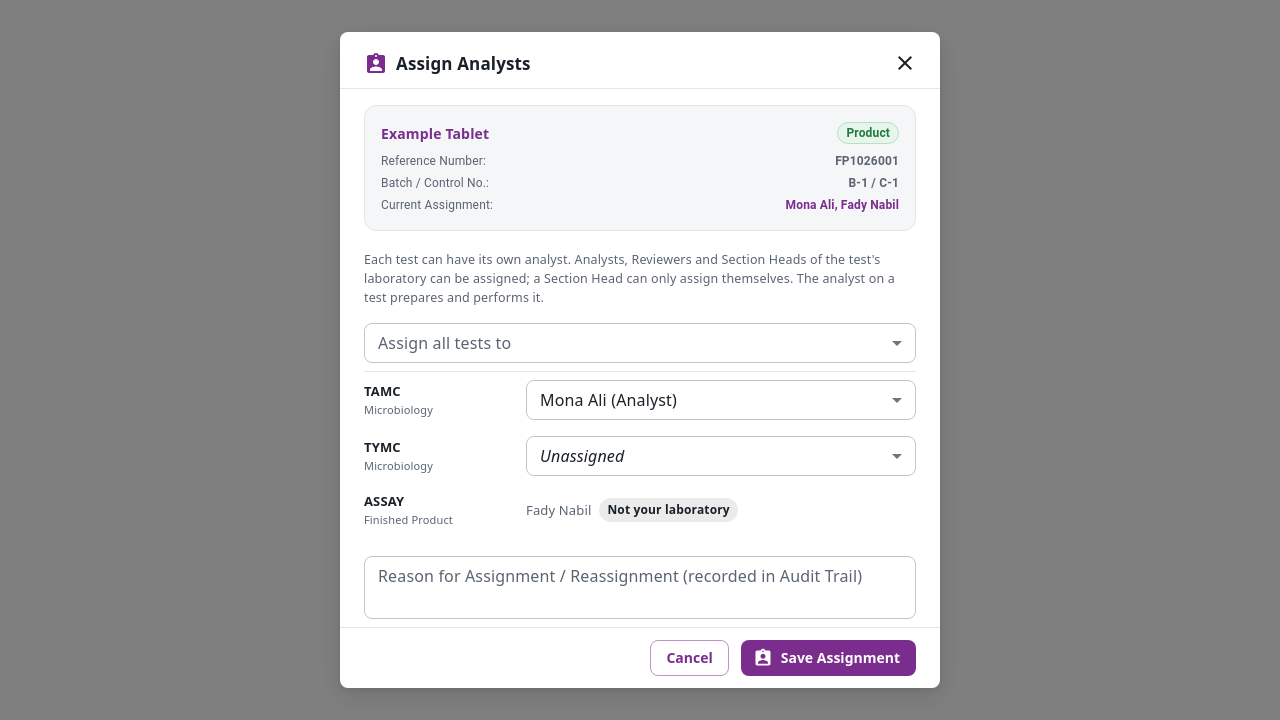
AssignAnalystDialog › offers each test only the people who may take it and locks tests outside the user's laboratory
Expected: the dropdown named "Analyst for TAMC" is shown, [540, 389, 677, 411]
Expected: the text "Mona Ali, Fady Nabil" is shown, [786, 196, 899, 214]
Press the mouse on the dropdown named "Analyst for TYMC": (582, 456) [540, 445, 624, 467]
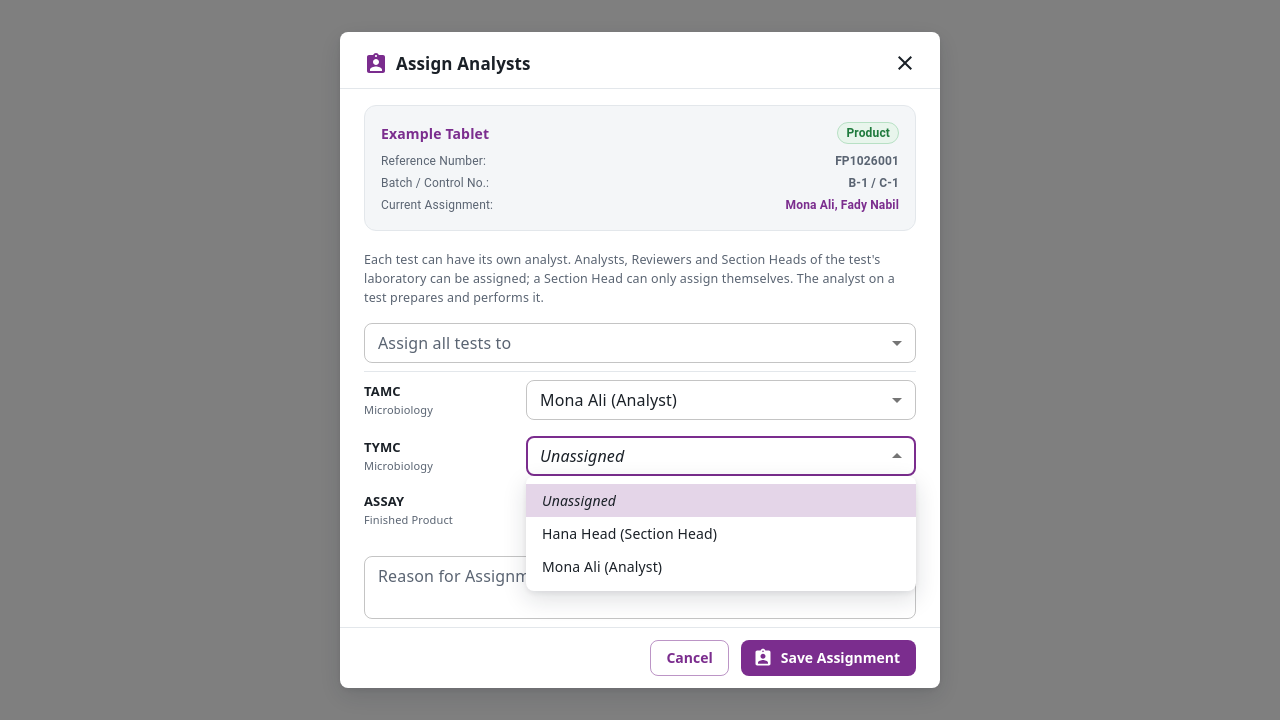
Now the options read "Unassigned", "Hana Head (Section Head)", "Mona Ali (Analyst)", in this order, box [526, 484, 916, 517]; [542, 524, 717, 543]; [542, 557, 662, 576]
